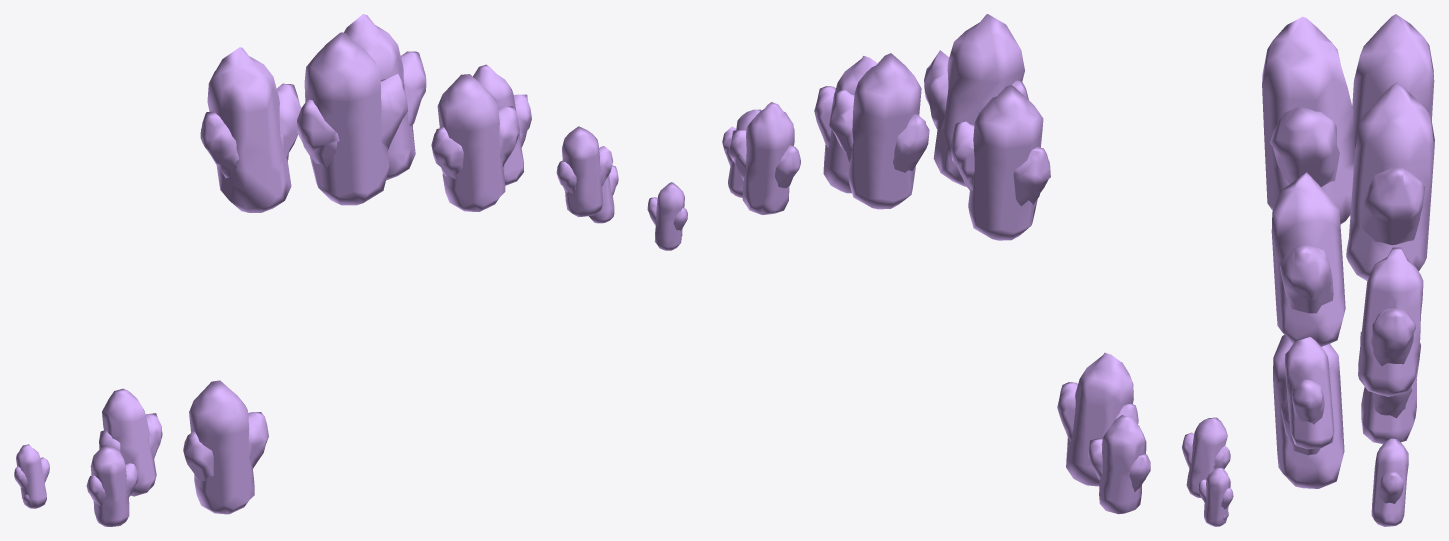
The model's file is stegosaurus_gems_adult.glb.
The picture shows the model from 3 angles, left to right: view 1: azimuth 30°, elevation 25°; view 2: azimuth 150°, elevation 25°; view 3: azimuth 270°, elevation 25°; orthographic projection. The views are drawn at different scales.
Parts seen in each view (by area): view 1: gem; view 2: gem; view 3: gem.
Part boxes in pixels (x1=…): gem: x1=14, y1=14, x2=618, y2=526; gem: x1=647, y1=14, x2=1233, y2=526; gem: x1=1262, y1=14, x2=1434, y2=526.
Bounding box in the file's own units: 2.7 × 1.94 × 0.5699.
